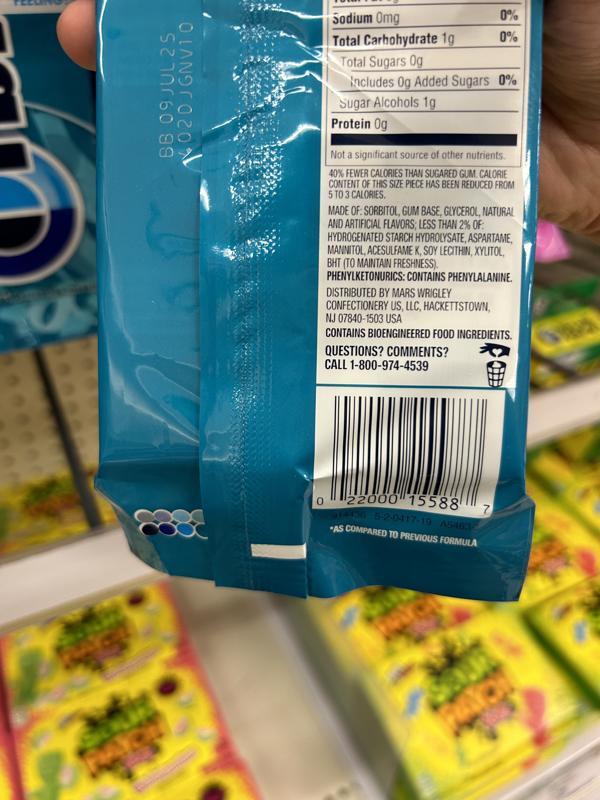ingredients: (325, 204, 516, 268)
